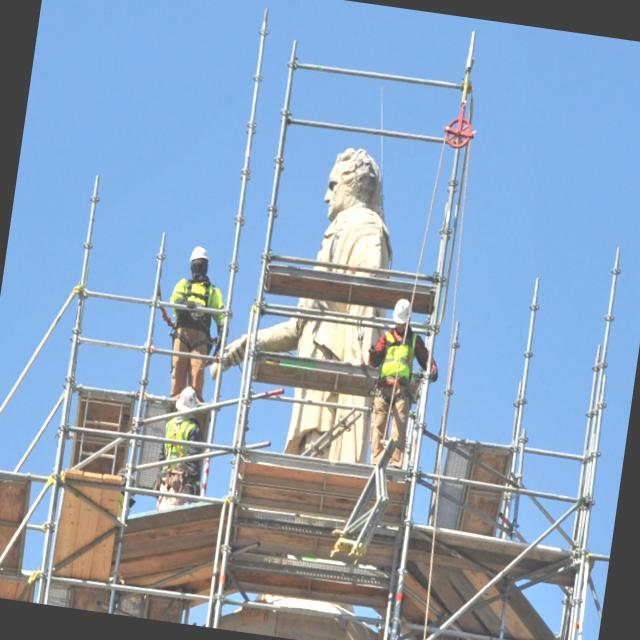helmet: (387, 290, 419, 328), (185, 241, 214, 268)
no-goggles: (160, 410, 203, 467), (388, 314, 420, 328), (181, 264, 209, 278), (171, 403, 194, 417)
vest: (167, 288, 222, 329), (382, 334, 422, 389)
